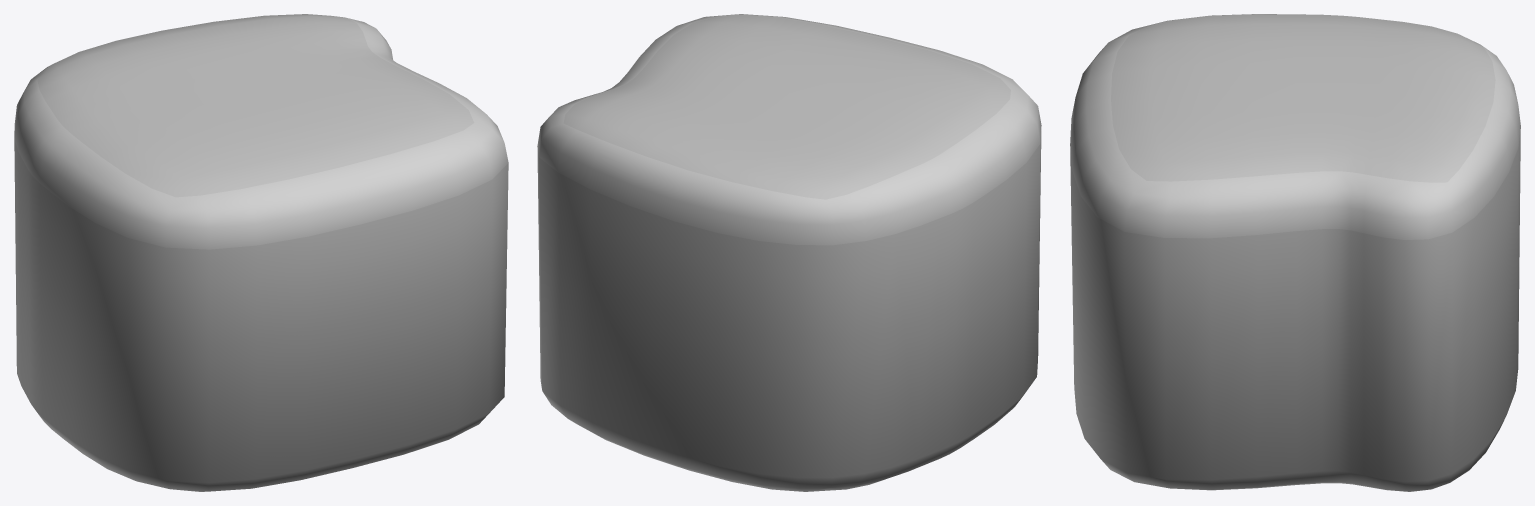
File: big_stone_2_gray.fbx
3 views of the same model, side by side, from view 1: azimuth 30°, elevation 25°; view 2: azimuth 150°, elevation 25°; view 3: azimuth 270°, elevation 25° (orthographic). The views are drawn at different scales.
Visible parts, largest first — view 1: big_stone_2_gray; view 2: big_stone_2_gray; view 3: big_stone_2_gray.
Boxes of the visible parts, x1,y1,x2,y2 form: big_stone_2_gray: (14, 14, 508, 491); big_stone_2_gray: (537, 14, 1041, 491); big_stone_2_gray: (1070, 14, 1520, 491).
Bounding box in the file's own units: 256 × 200 × 247.
